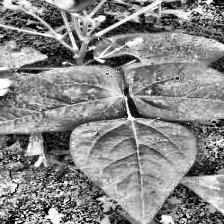ALS: (76, 127, 198, 218), (0, 75, 102, 134), (125, 67, 224, 123)
